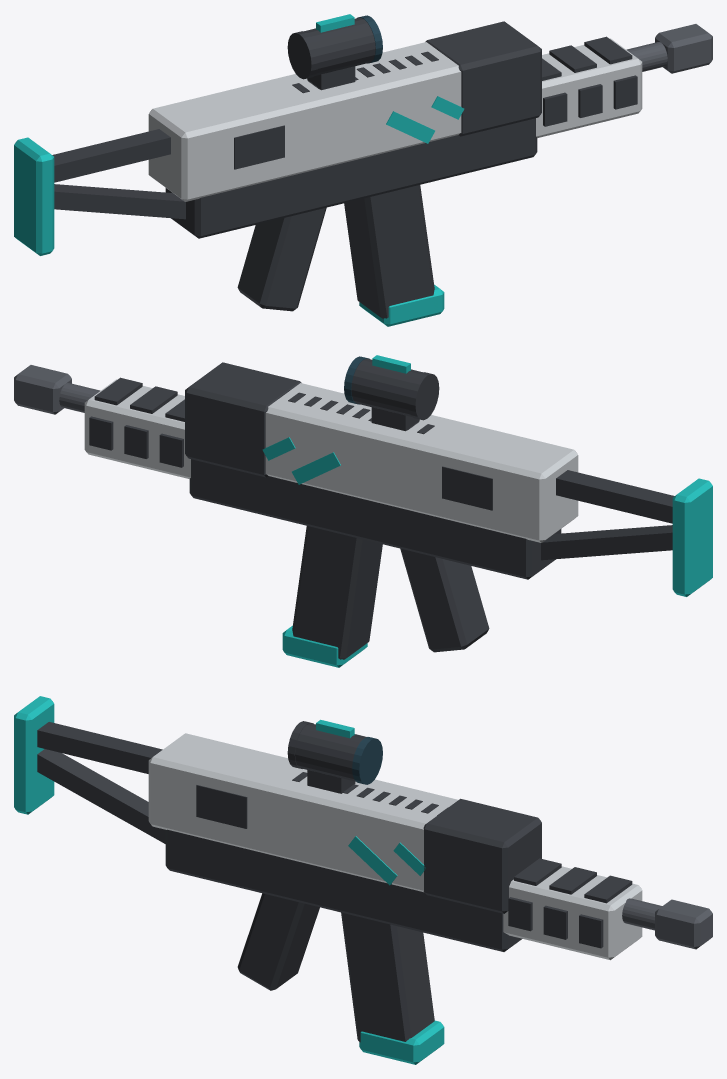
The model's file is smg_teal.glb.
3 views of the same model, one above another, from view 1: azimuth 30°, elevation 25°; view 2: azimuth 150°, elevation 25°; view 3: azimuth 330°, elevation 25° (orthographic).
Parts seen in each view (by area): view 1: smg_teal; view 2: smg_teal; view 3: smg_teal.
Part boxes in pixels (x1,y1,x2,y2): smg_teal: (14,14,712,326); smg_teal: (14,355,712,667); smg_teal: (14,696,712,1064).
Bounding box in the file's own units: 0.6765 × 0.292 × 0.066.
